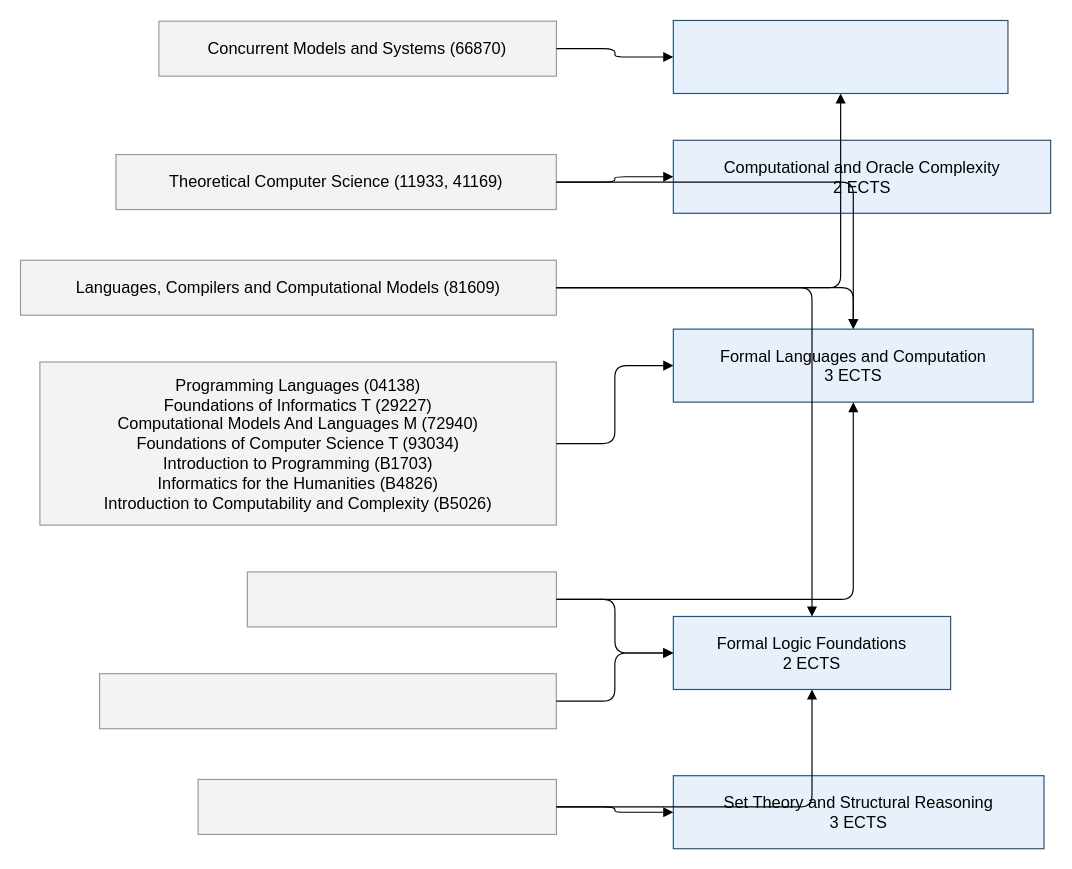
This 1072x869 diagram has some shape labels left out. The box of each missing label's shape, as (x1, y1, x2, y2) in pixels:
Concurrent Systems Verification 2 ECTS: (672, 19, 1008, 93)
Foundations Of Artificial Intelligence T (72938): (98, 673, 556, 729)
Logic for Computer Science (66857): (197, 778, 556, 834)
Logic for Informatics (73149): (246, 571, 556, 627)
